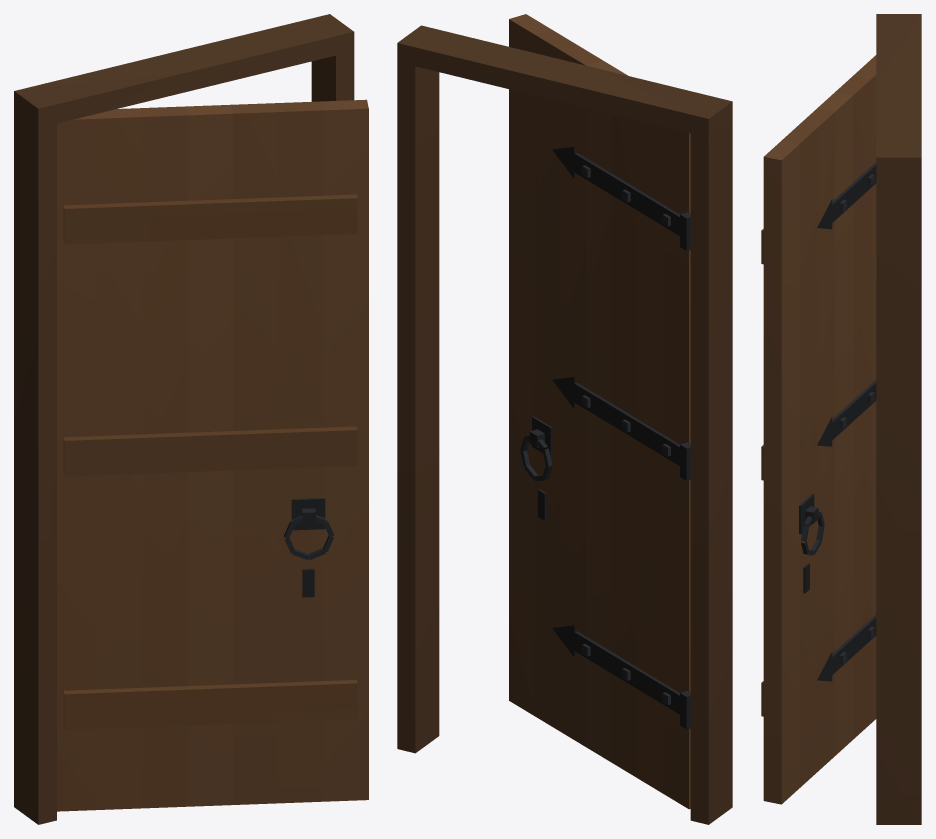
The model's file is door.oak_slim_ajar.oak.glb.
3 renders of one model, left to right at view 1: azimuth 30°, elevation 25°; view 2: azimuth 150°, elevation 25°; view 3: azimuth 270°, elevation 25°, orthographic. The views are drawn at different scales.
Visible parts, largest first — view 1: door_oak_slim_ajar_oak; view 2: door_oak_slim_ajar_oak; view 3: door_oak_slim_ajar_oak.
Boxes of the visible parts, x1=… form: door_oak_slim_ajar_oak: x1=14, y1=14, x2=368, y2=824; door_oak_slim_ajar_oak: x1=397, y1=14, x2=732, y2=824; door_oak_slim_ajar_oak: x1=761, y1=14, x2=921, y2=824.
Size of what is drawn, in the model's own units: 1.2 by 2.6 by 0.5664.
